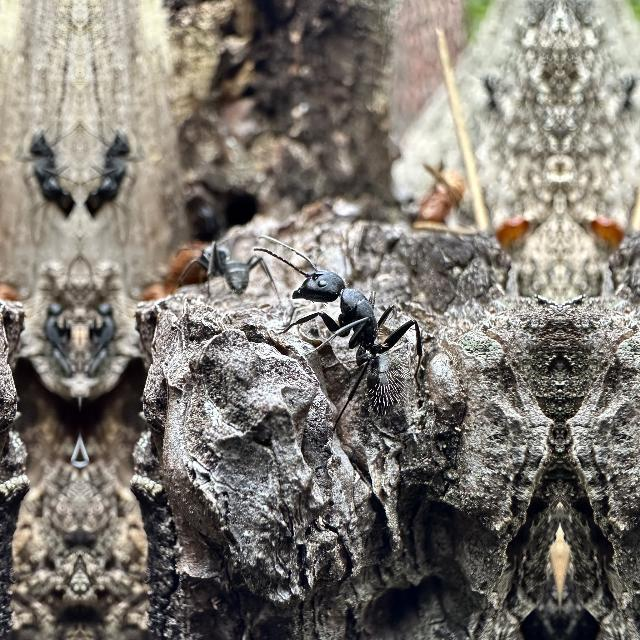Camponotus: (278, 238, 427, 440), (173, 232, 271, 322), (81, 117, 147, 229), (13, 117, 79, 229), (31, 286, 80, 388), (80, 286, 128, 388)
